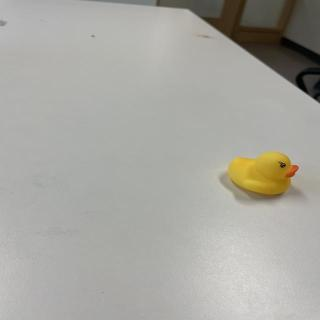duck_regular: (228, 152, 301, 197)
